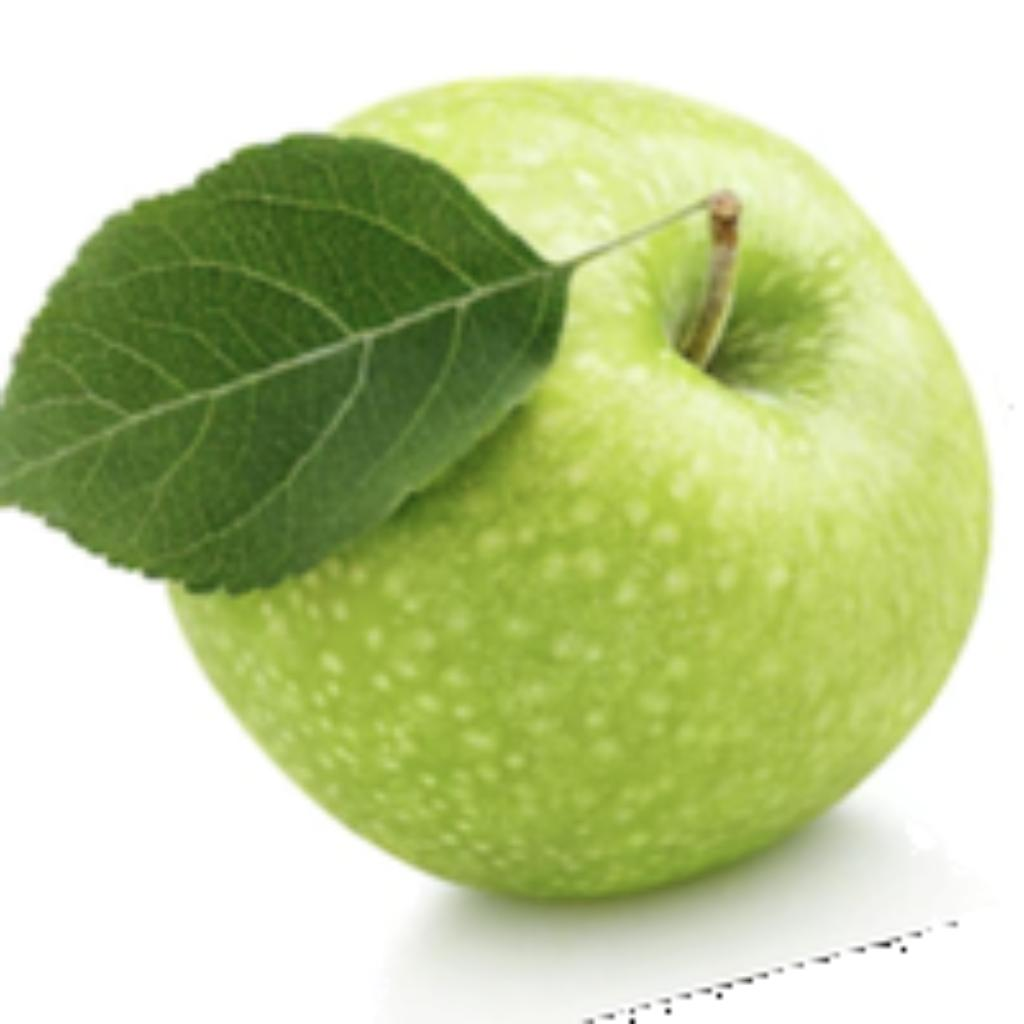apple: (0, 67, 998, 1019)
